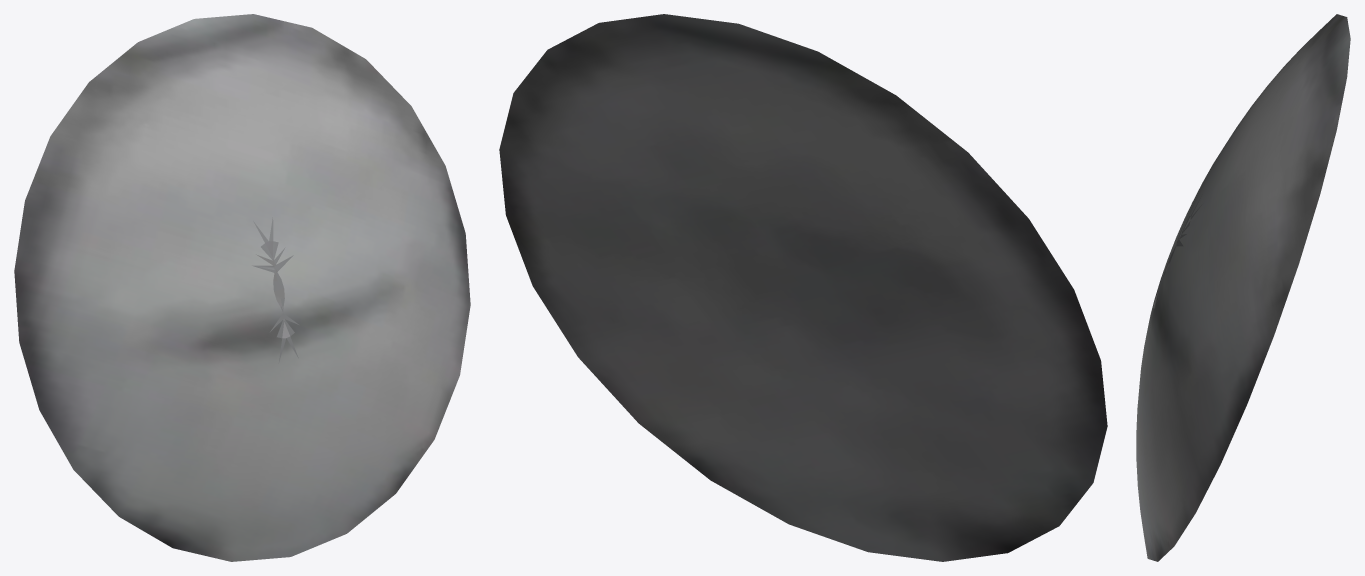
Rendered from link_10__button-11.glb.
3 views of the same model, side by side, from view 1: azimuth 30°, elevation 25°; view 2: azimuth 150°, elevation 25°; view 3: azimuth 270°, elevation 25° (orthographic). The views are drawn at different scales.
Visible parts, largest first — view 1: geometry_0; view 2: geometry_0; view 3: geometry_0.
Part boxes in pixels (x1,y1,x2,y2): geometry_0: [14, 14, 470, 561]; geometry_0: [499, 14, 1107, 561]; geometry_0: [1136, 14, 1350, 561].
Size of the model in its own units: 0.0285 by 0.0285 by 0.0111.
1 material, 1 textured.
